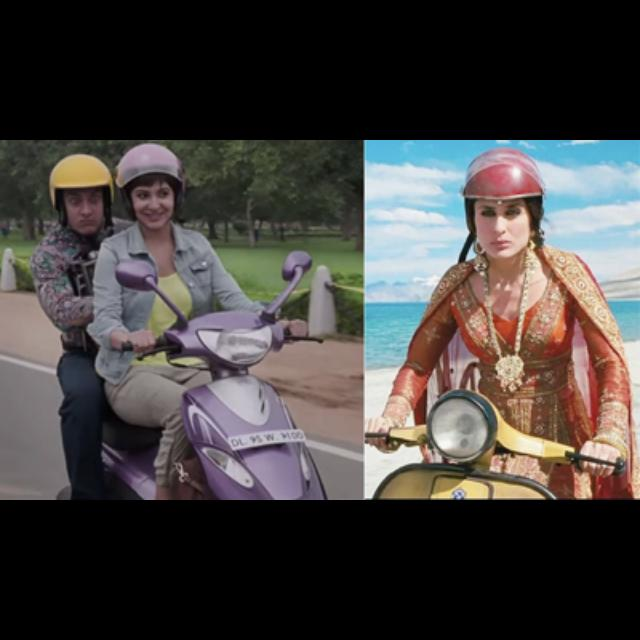With Helmet: (454, 146, 552, 260), (109, 143, 191, 231), (46, 150, 114, 236)
